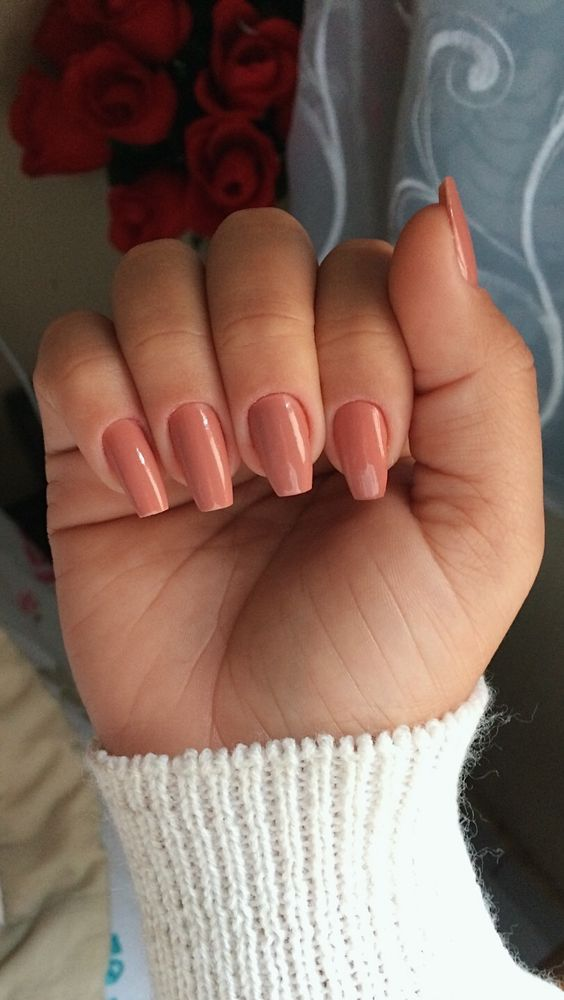nails: (149, 393, 243, 522), (231, 384, 331, 501), (415, 169, 500, 301), (91, 411, 181, 527), (320, 394, 411, 508)
